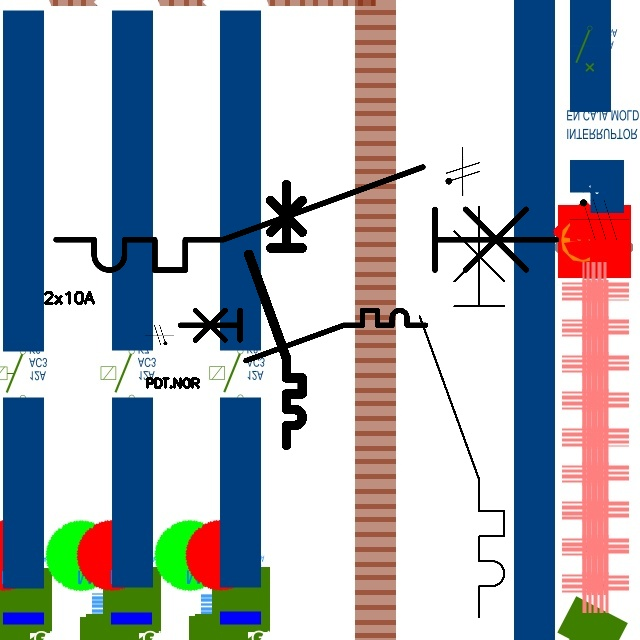interruptor_termomagnetico: (43, 154, 569, 283), (409, 195, 515, 627), (242, 178, 309, 452), (174, 304, 432, 367)
